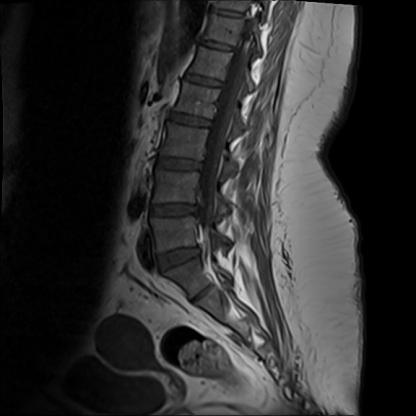Degenerative Disc Diseaserotation: (147, 198, 202, 223), (152, 247, 205, 271)
Disc Relaxationrotation: (151, 245, 207, 272)
